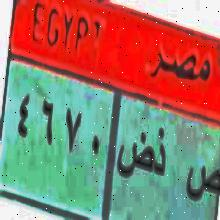0: (90, 126, 104, 165)
4: (14, 87, 32, 153)
6: (41, 96, 55, 154)
7: (65, 98, 82, 162)
daad: (116, 126, 153, 196)
saad: (184, 148, 220, 220)
zaal: (154, 122, 166, 190)
